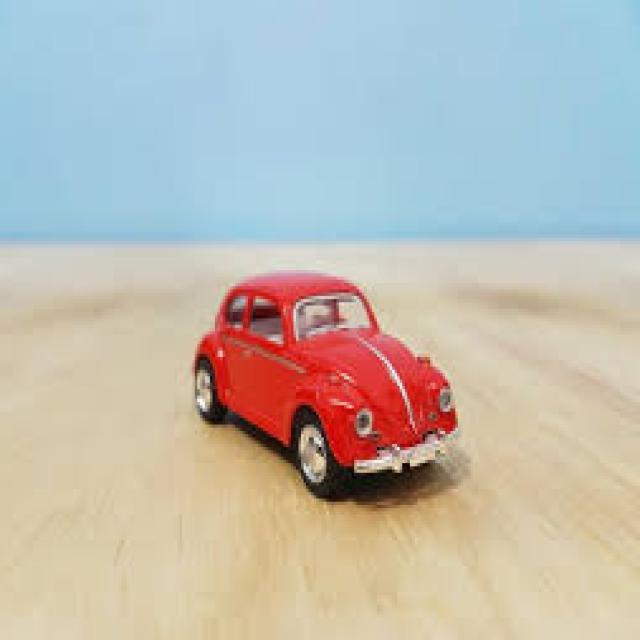Car: (195, 267, 460, 498)
